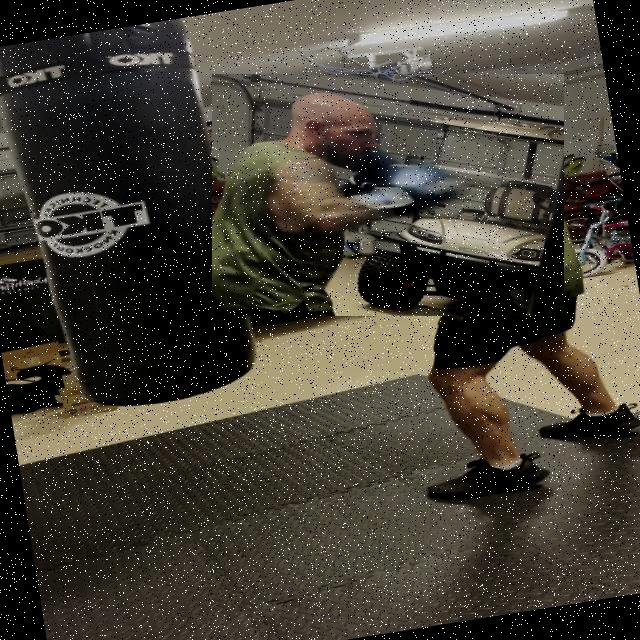punch: (212, 74, 564, 316)
